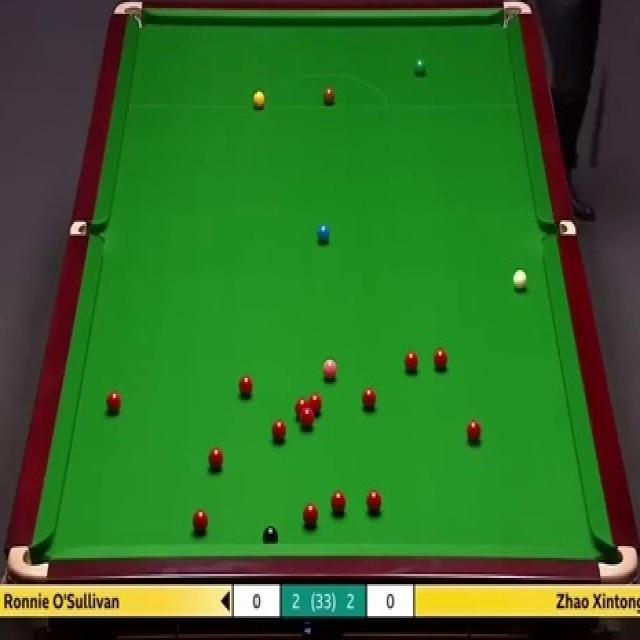black-ball: (262, 526, 278, 542)
blue-ball: (316, 223, 329, 244)
brown-ball: (322, 87, 336, 106)
green-ball: (415, 56, 426, 75)
pink-ball: (321, 353, 336, 377)
red-ball: (207, 446, 225, 472), (466, 417, 483, 444), (330, 491, 347, 517), (237, 373, 254, 398), (192, 508, 209, 533), (300, 406, 315, 434), (268, 416, 284, 442), (302, 502, 318, 528), (306, 392, 323, 416), (432, 347, 448, 372), (106, 390, 122, 413), (362, 386, 377, 410), (404, 352, 420, 372), (367, 491, 382, 512), (296, 398, 309, 421)
white-ball: (514, 270, 527, 293)
yellow-ball: (250, 90, 266, 110)
